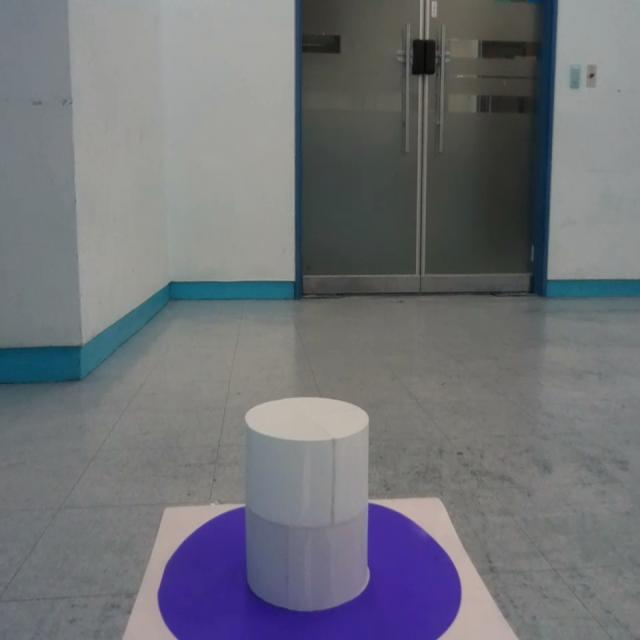cylinder: (243, 397, 371, 612)
